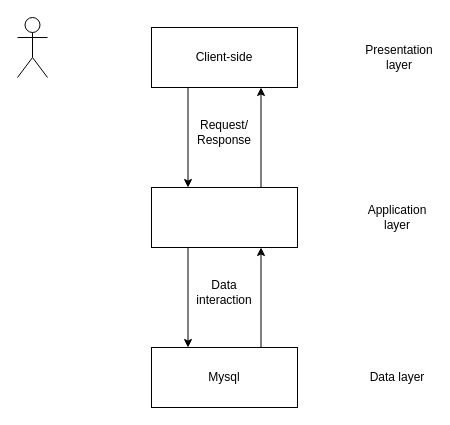
This 450x425 diagram has some shape labels left out. The shapes that lost their labels are listed below. From the top down, each one's box as (x1, y1, x2, y2) in pixels, then its label:
(16, 16, 48, 78): User
(150, 186, 298, 248): Server-side (Xampp)
